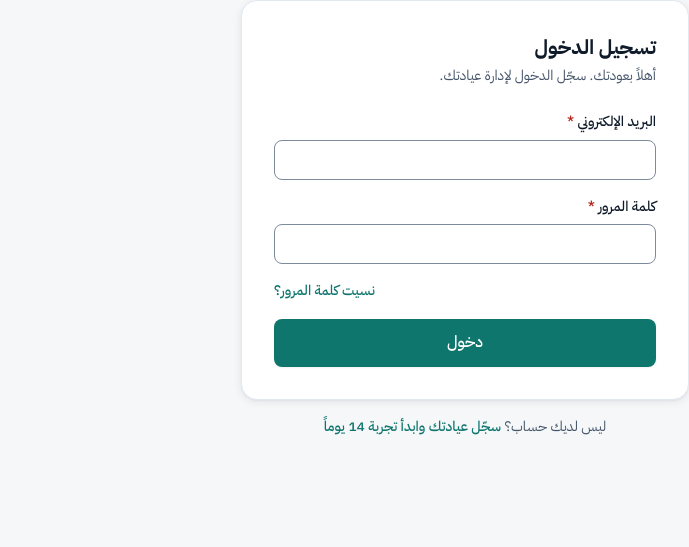
Test: Sign-in: MFA enrolment › shows the setup key once (grouped, with a link and a manual key), and nothing is written to storage
This screenshot has width=689, height=547.
Type "root@platform.test" into the field labelled "البريد الإلكتروني *" at [465, 160], box top-left (274, 140), bottom-right (656, 180)
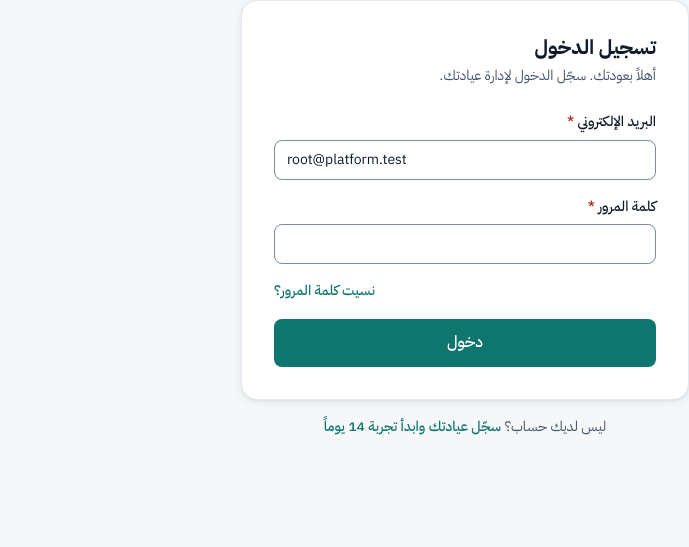
Type "Platform-Admin-Passw0rd!" into the password field labelled "كلمة المرور *" at [465, 244], box top-left (274, 224), bottom-right (656, 264)
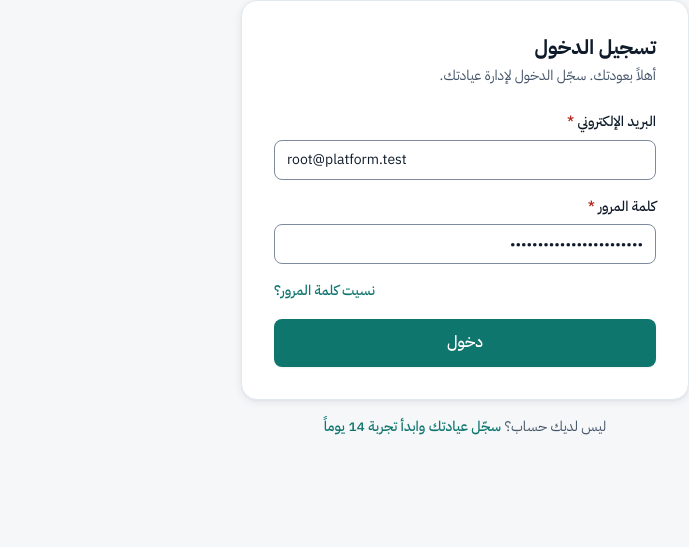
Click the button "دخول" at [465, 343], box top-left (274, 319), bottom-right (656, 367)
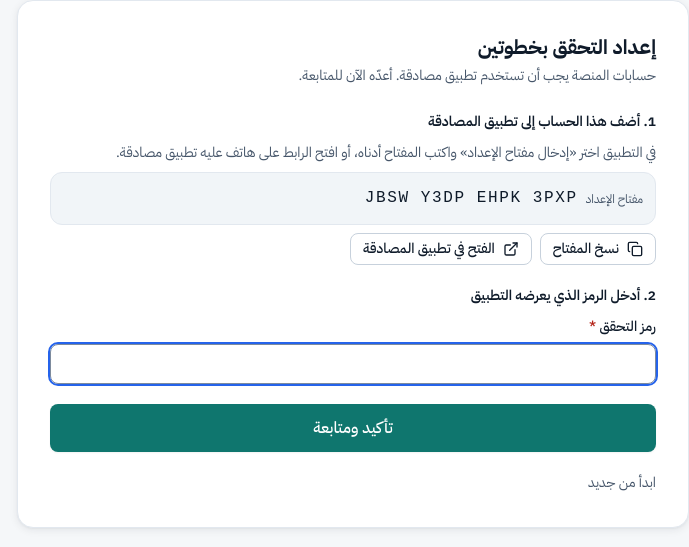
Result: the text with test id "mfa-secret" reads "JBSW Y3DP EHPK 3PXP" at top-left (365, 189), bottom-right (578, 207)
